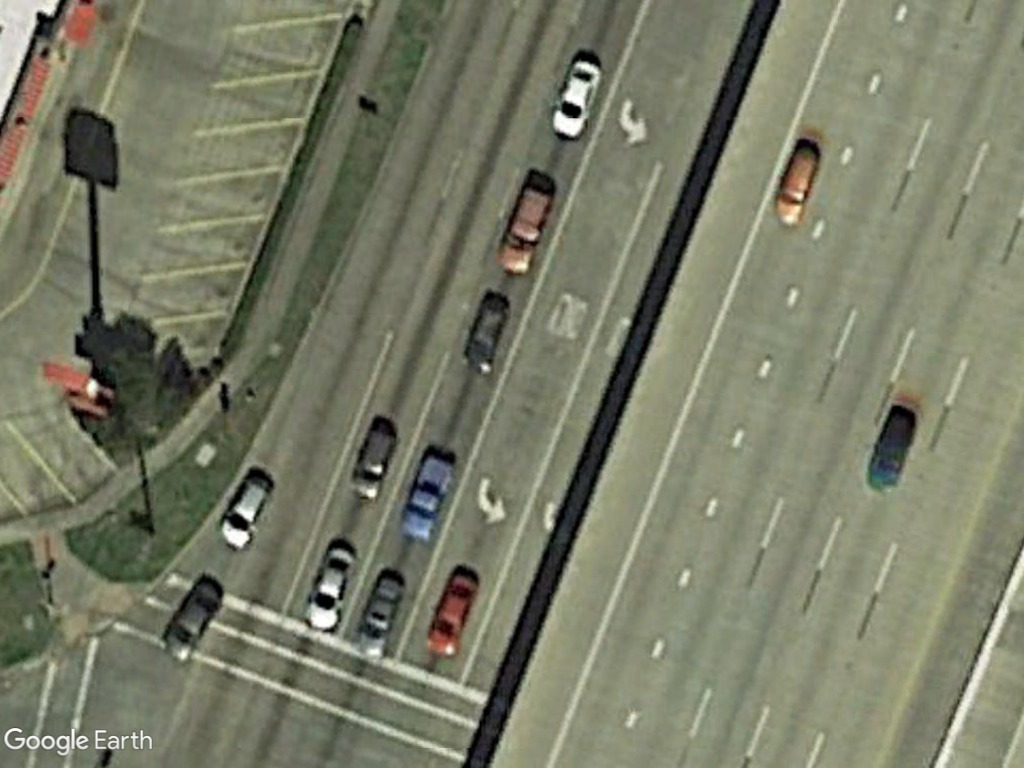car: (487, 180, 559, 280), (157, 578, 227, 666), (300, 542, 359, 640), (545, 54, 608, 143), (424, 566, 482, 661), (215, 470, 280, 551), (352, 570, 404, 666), (770, 140, 825, 229), (348, 420, 403, 504)
other: (398, 449, 459, 549)
